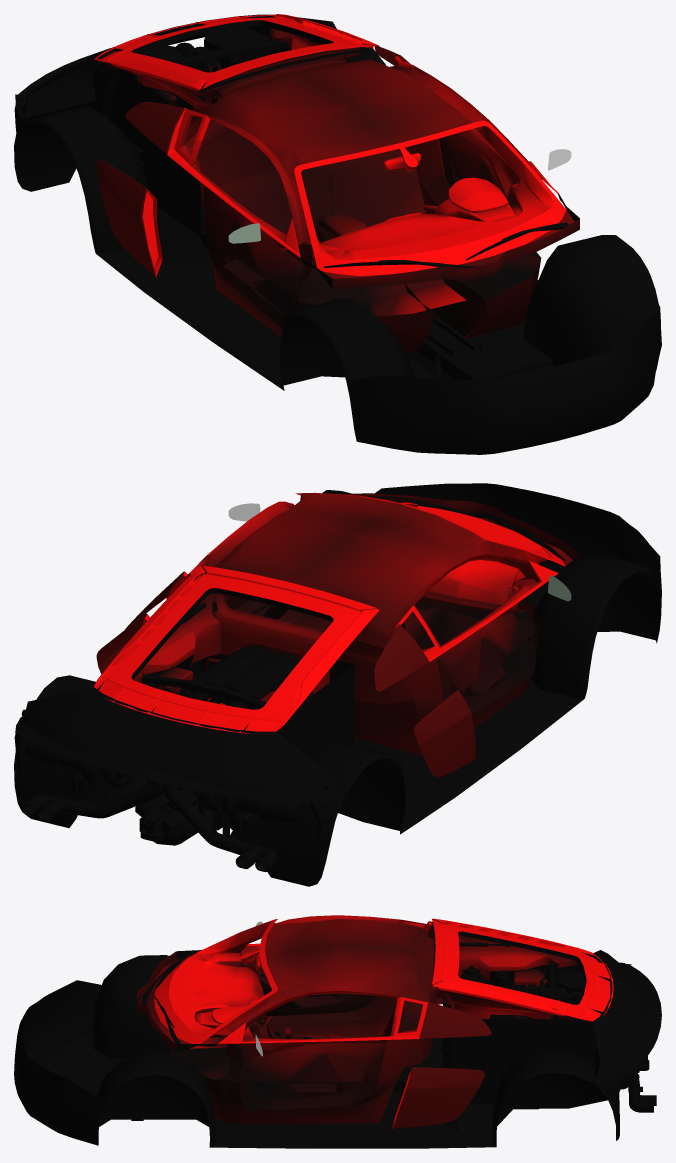
The model's file is AudiR8_Chassis_Trim.fbx.
The picture shows the model from 3 angles, top to bottom: view 1: azimuth 30°, elevation 25°; view 2: azimuth 150°, elevation 25°; view 3: azimuth 270°, elevation 25°; orthographic projection. The views are drawn at different scales.
Parts seen in each view (by area): view 1: AudiR8_Chassis_Trim; view 2: AudiR8_Chassis_Trim; view 3: AudiR8_Chassis_Trim.
Part boxes in pixels (bbox=[...]): AudiR8_Chassis_Trim: bbox=[14, 14, 661, 454]; AudiR8_Chassis_Trim: bbox=[14, 483, 661, 886]; AudiR8_Chassis_Trim: bbox=[14, 915, 661, 1148].
Size of the model in its own units: 201 by 107 by 428.
